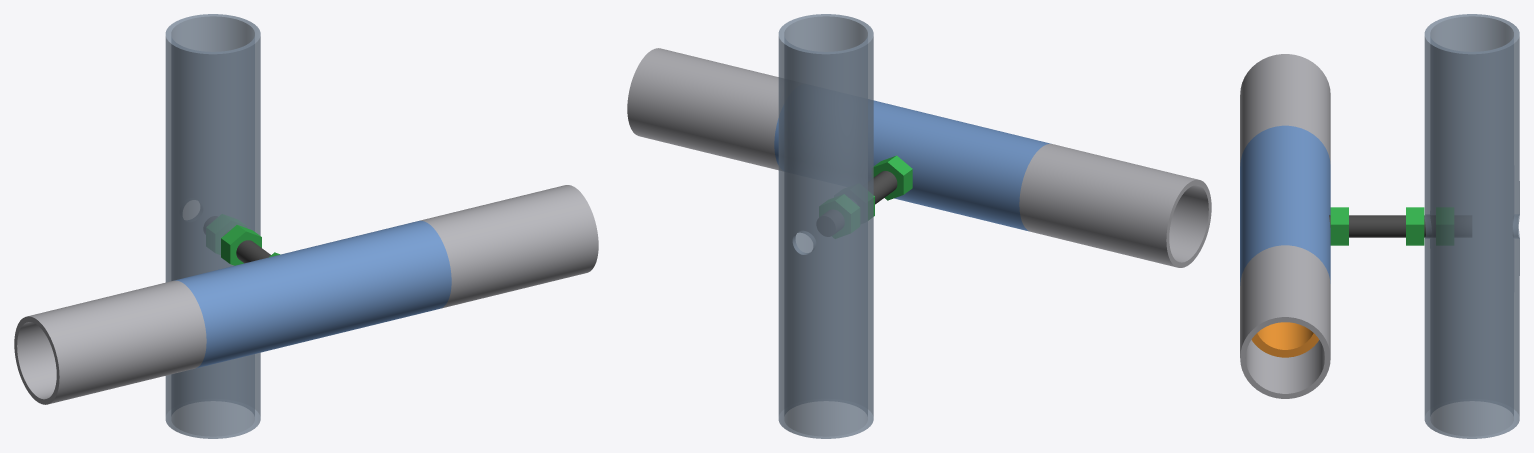
The model's file is spine-connector-v2.glb.
The picture shows the model from 3 angles, left to right: view 1: azimuth 30°, elevation 25°; view 2: azimuth 150°, elevation 25°; view 3: azimuth 270°, elevation 25°; orthographic projection.
Parts seen in each view (by area): view 1: spine_tube, joint_tube, pipe_b, pipe_a, PROPOSAL_spine_nut_outside, PROPOSAL_spine_nut_inside, m8_rod; view 2: spine_tube, pipe_b, joint_tube, pipe_a, m8_rod, lock_nut, PROPOSAL_spine_nut_inside; view 3: spine_tube, joint_tube, pipe_a, pipe_b, m8_rod, plug_a, lock_nut, PROPOSAL_spine_nut_outside, PROPOSAL_spine_nut_inside.
Part boxes in pixels (box(x1,y1,x2,y2)): spine_tube: box(165, 14, 260, 438); joint_tube: box(174, 220, 451, 368); pipe_b: box(14, 280, 206, 404); pipe_a: box(419, 185, 598, 308); PROPOSAL_spine_nut_outside: box(221, 225, 261, 265); PROPOSAL_spine_nut_inside: box(206, 214, 246, 254); m8_rod: box(204, 216, 270, 263); spine_tube: box(778, 14, 873, 438); pipe_b: box(1019, 143, 1211, 267); joint_tube: box(774, 99, 1051, 231); pipe_a: box(627, 48, 783, 170); m8_rod: box(817, 171, 897, 236); lock_nut: box(872, 155, 912, 200); PROPOSAL_spine_nut_inside: box(819, 194, 859, 238); spine_tube: box(1424, 14, 1519, 438); joint_tube: box(1240, 125, 1330, 285); pipe_a: box(1240, 245, 1330, 398); pipe_b: box(1240, 54, 1330, 165); m8_rod: box(1329, 215, 1471, 237); plug_a: box(1251, 322, 1319, 357); lock_nut: box(1330, 207, 1348, 245); PROPOSAL_spine_nut_outside: box(1406, 207, 1424, 245); PROPOSAL_spine_nut_inside: box(1436, 208, 1453, 244).
Bounding box in the file's own units: 220 × 150 × 98.85.
